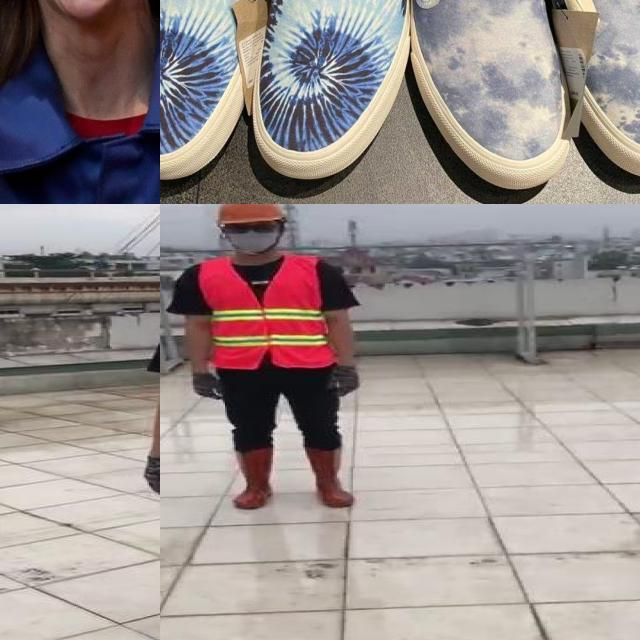Ear-protection: (0, 0, 160, 44)
Sandals: (160, 0, 428, 204), (392, 0, 640, 199)
boots: (303, 446, 357, 509), (230, 449, 278, 510)
face_mask: (222, 219, 283, 254)
glasses: (218, 220, 282, 236)
hand_glove: (190, 374, 228, 405), (328, 366, 360, 398), (138, 456, 160, 497)
head_helmet: (216, 204, 282, 223)
person: (177, 204, 369, 515)
vest: (196, 255, 334, 370)
